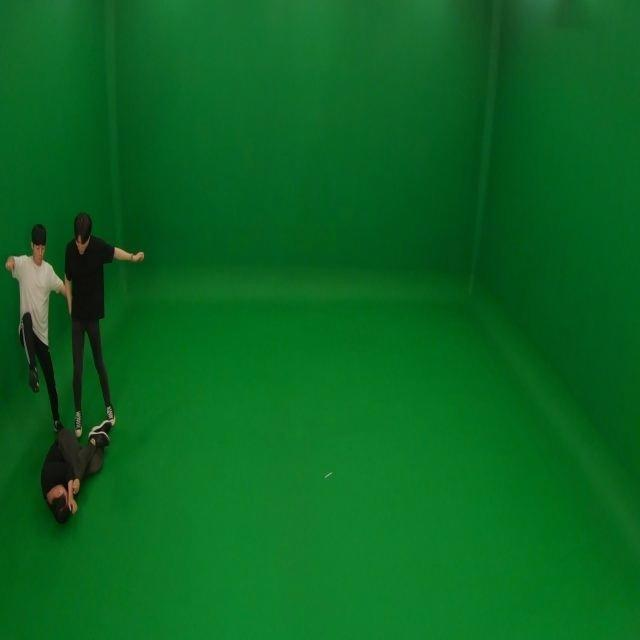fight: (8, 212, 124, 524)
